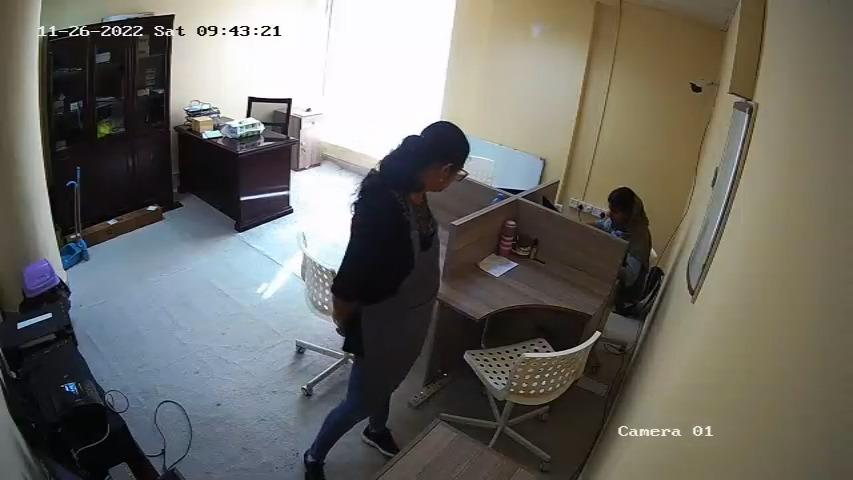apron: (381, 202, 443, 339)
